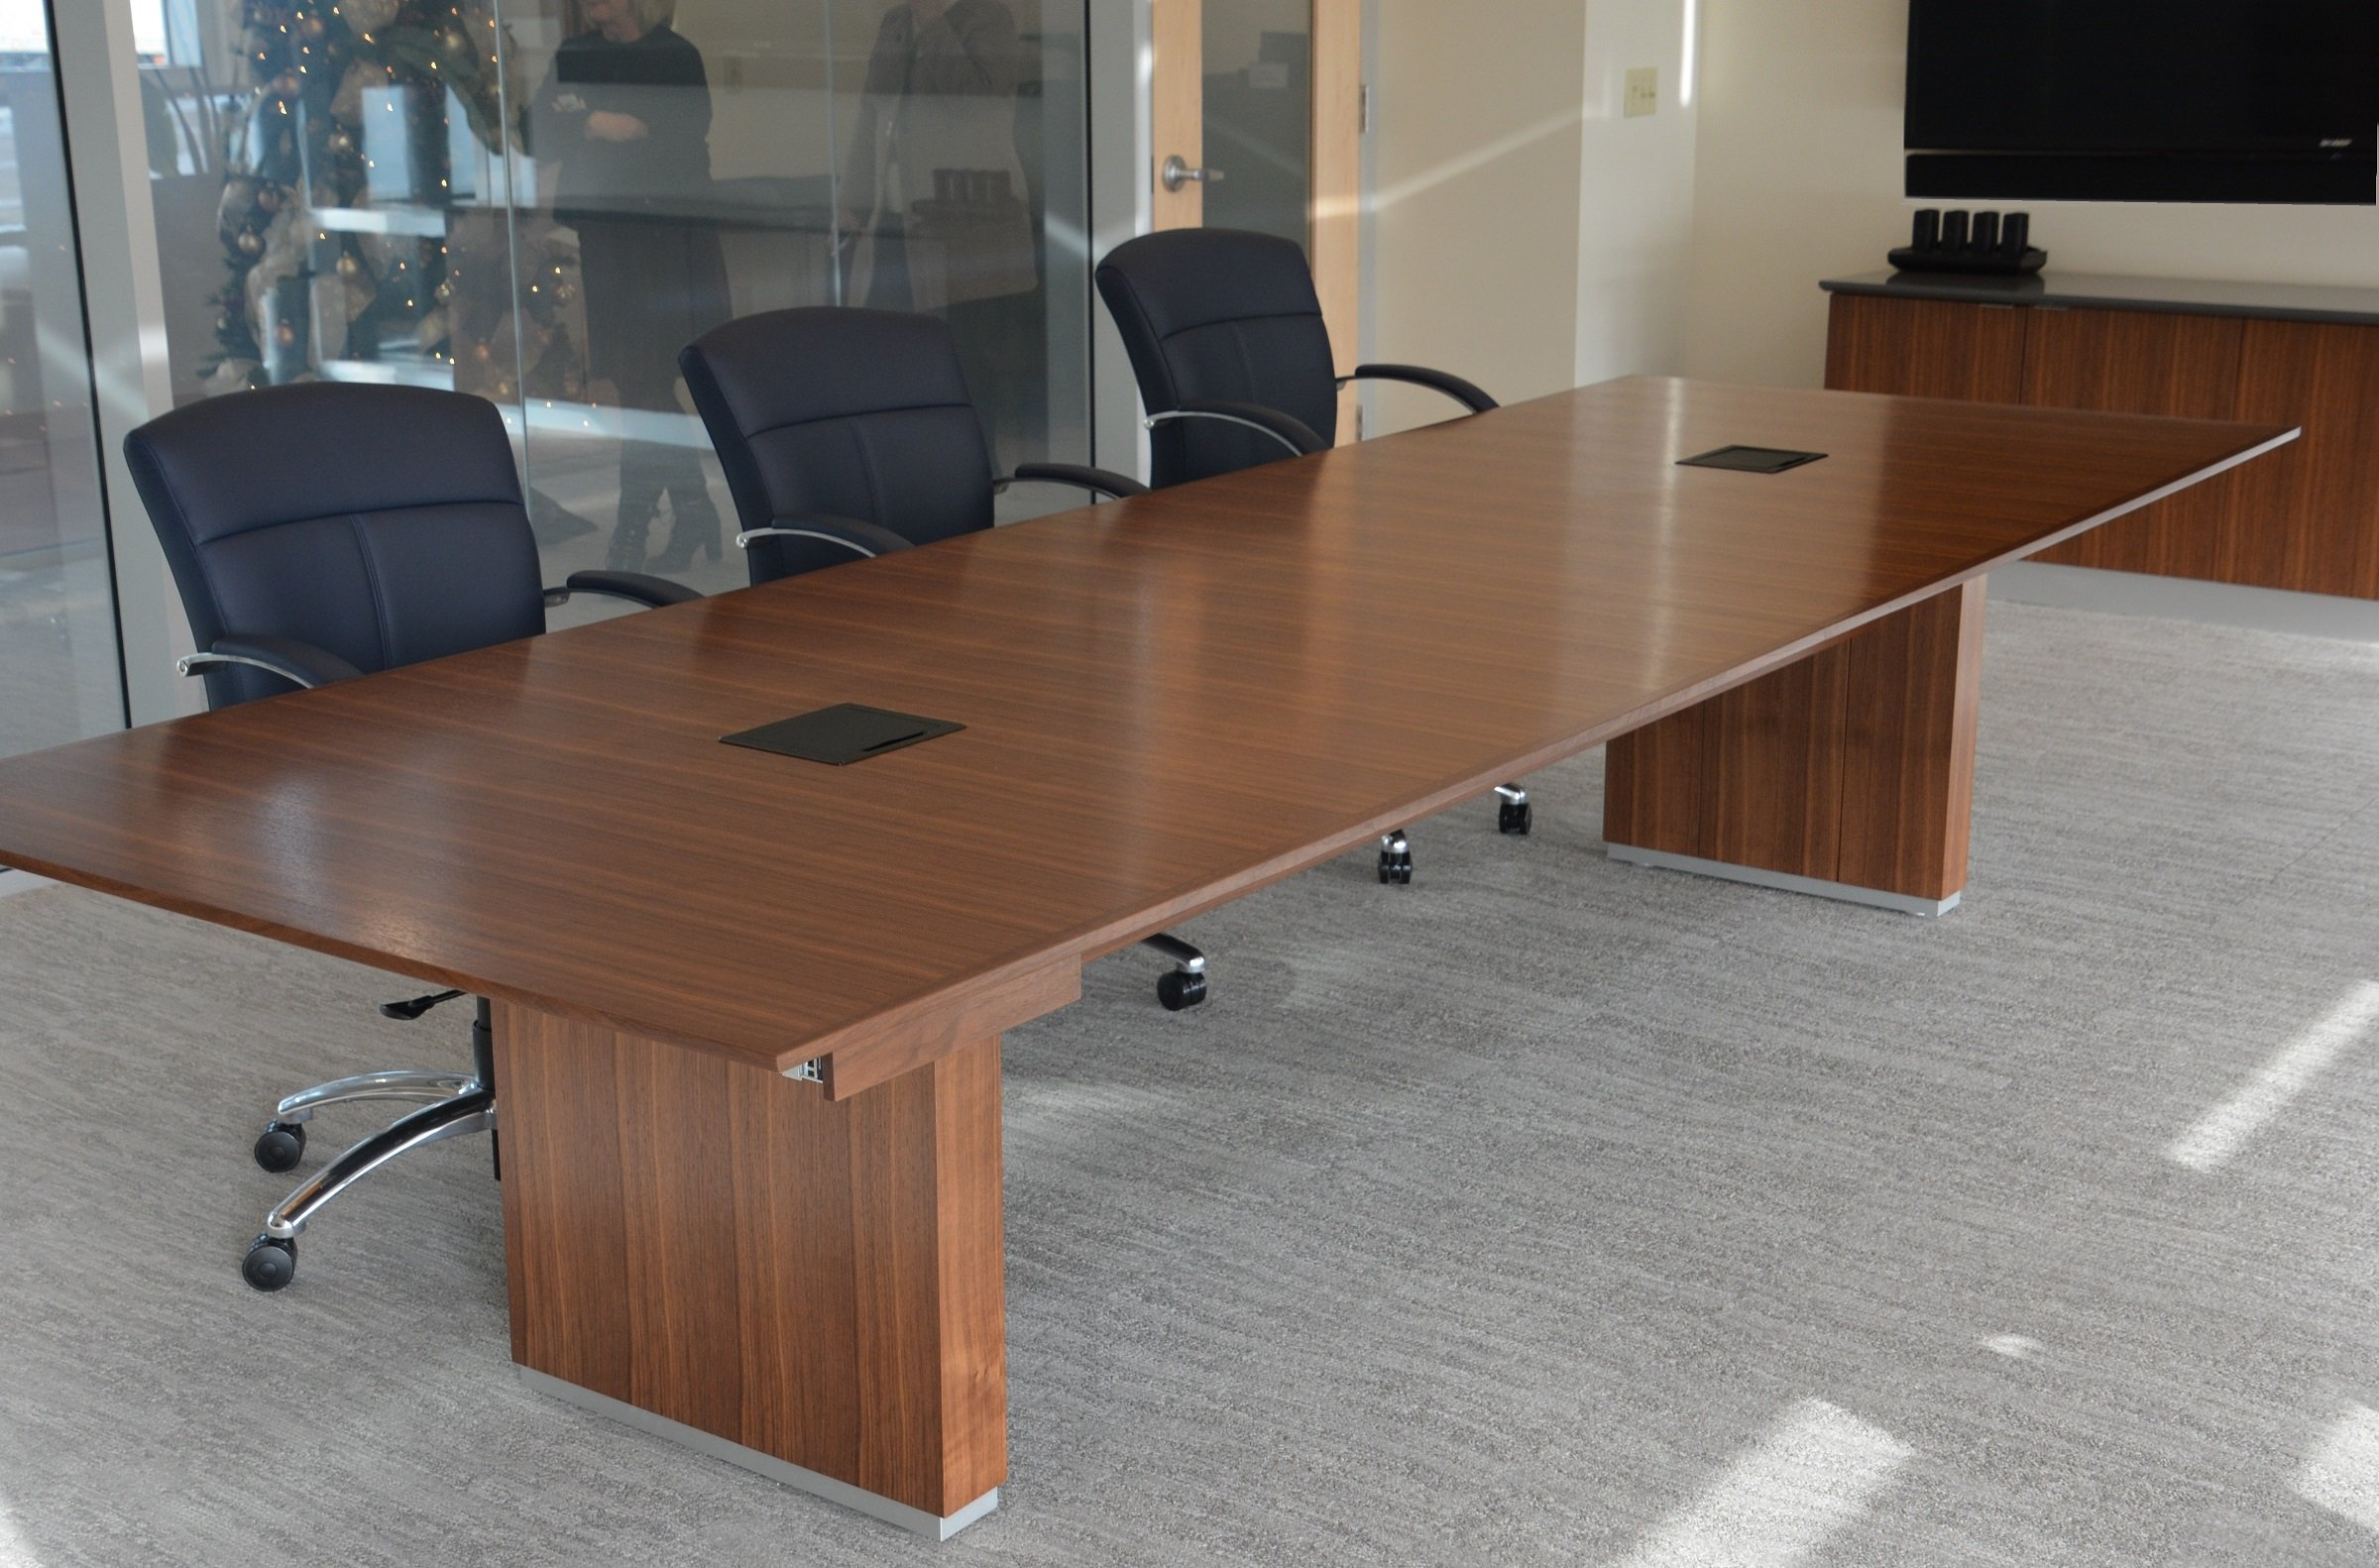conference_table: (1, 357, 2293, 1501)
